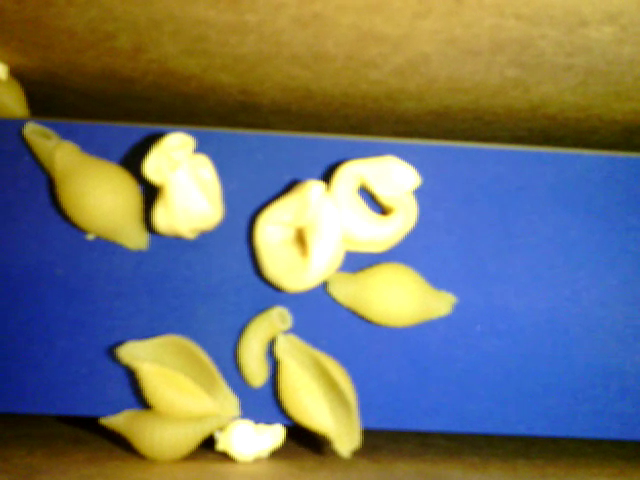elbow: (234, 304, 294, 388)
penne: (24, 121, 61, 176)
shell: (274, 333, 365, 461), (51, 137, 149, 253), (114, 334, 239, 415), (98, 405, 240, 468), (325, 263, 457, 330)
tortellini: (250, 177, 347, 295), (324, 150, 422, 255), (139, 131, 224, 240)
